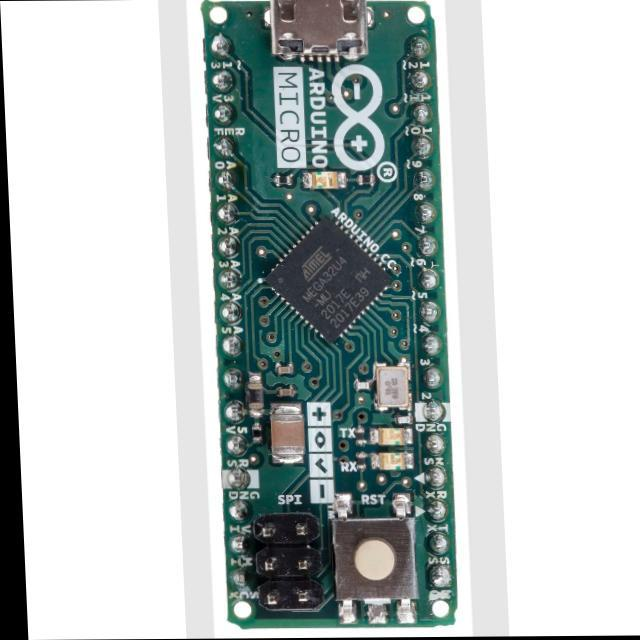Arduino-Micro: (202, 1, 457, 629)
